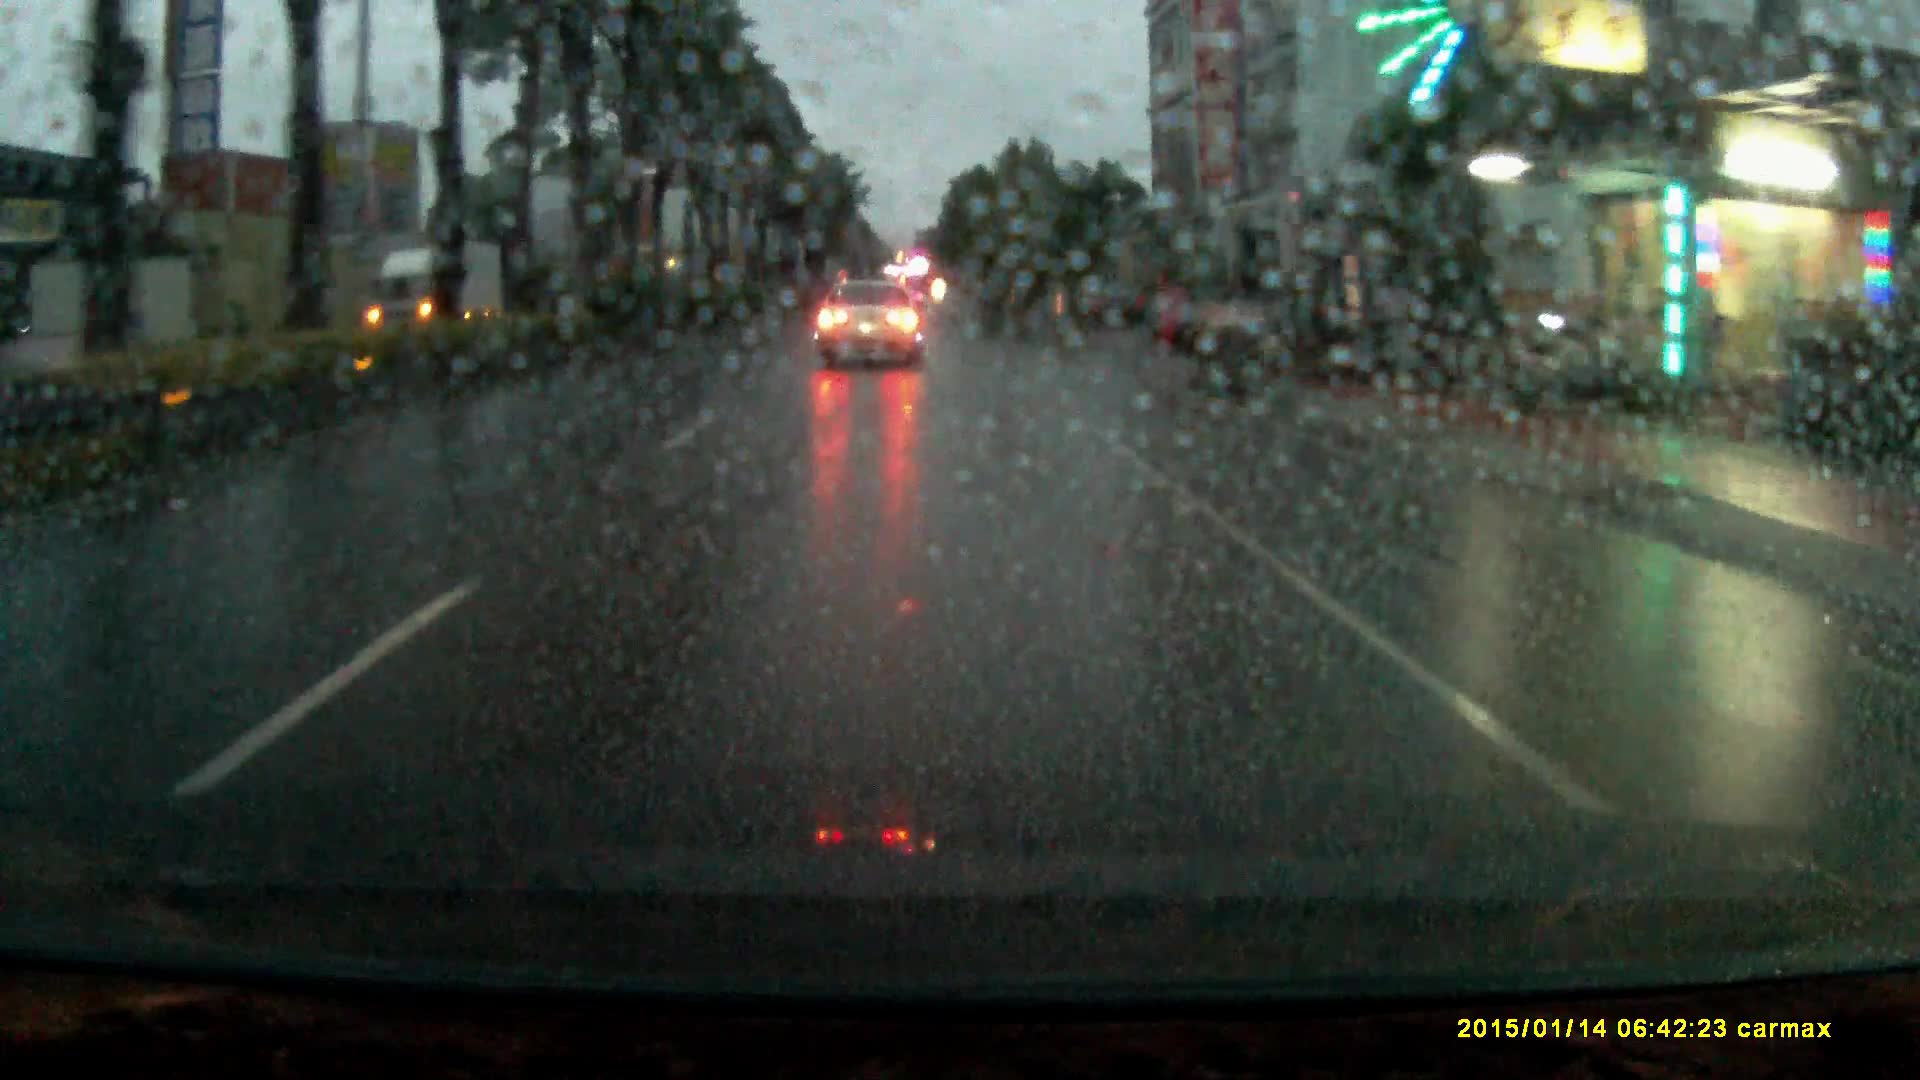vehicle: (368, 245, 502, 324), (815, 287, 920, 382), (1065, 287, 1145, 339)
